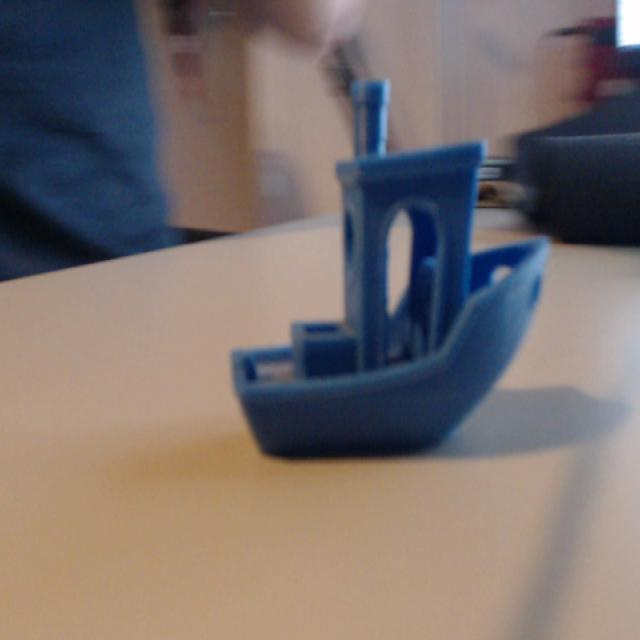benchy: (227, 75, 551, 460)
